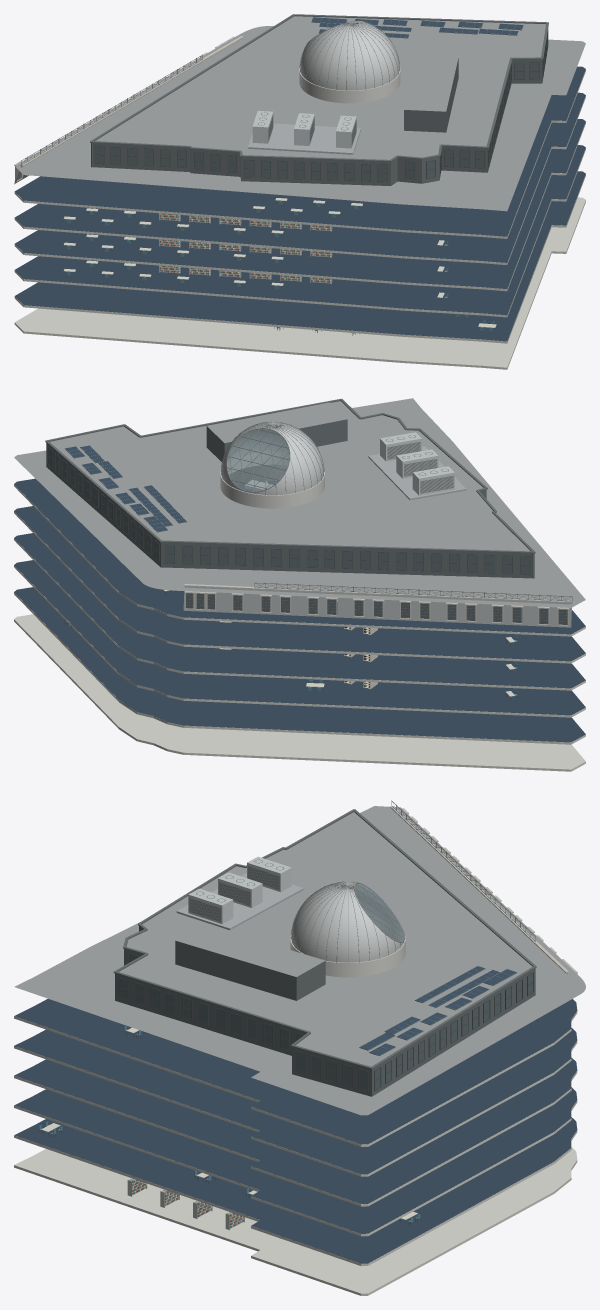
The model's file is lrb-interior-aa2bdded983d.glb.
3 renders of one model, top to bottom at view 1: azimuth 30°, elevation 25°; view 2: azimuth 150°, elevation 25°; view 3: azimuth 270°, elevation 25°, orthographic. The views are drawn at different scales.
Parts seen in each view (by area): view 1: LRB.001; view 2: LRB.001; view 3: LRB.001.
Part boxes in pixels (box(x1,y1,x2,y2)): LRB.001: box(14, 14, 585, 369); LRB.001: box(14, 398, 585, 771); LRB.001: box(14, 800, 585, 1295).
Bounding box in the file's own units: 89.08 × 36.89 × 69.59.
